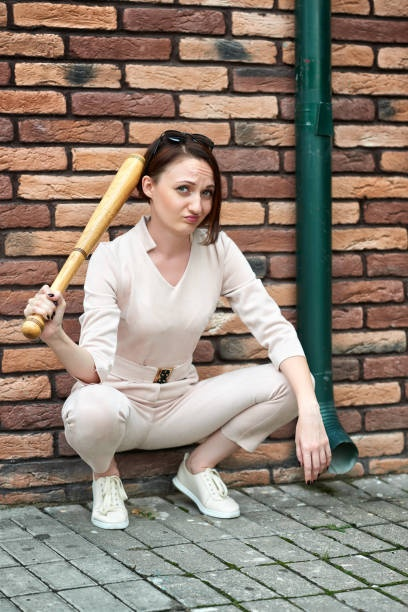bita: (20, 148, 145, 342)
